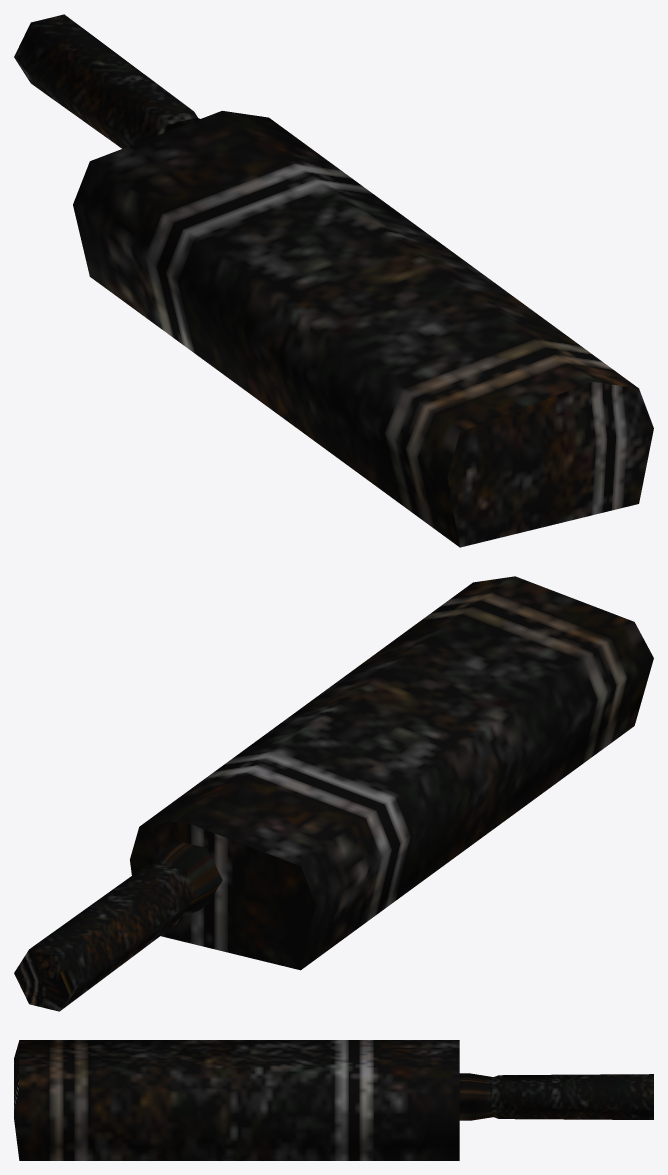
Rendered from Pickup_WeaponZj02.glb.
3 renders of one model, top to bottom at view 1: azimuth 30°, elevation 25°; view 2: azimuth 150°, elevation 25°; view 3: azimuth 270°, elevation 25°, orthographic. The views are drawn at different scales.
Visible parts, largest first — view 1: pk_weapon_zj02; view 2: pk_weapon_zj02; view 3: pk_weapon_zj02.
Part boxes in pixels (x1=…): pk_weapon_zj02: x1=14, y1=14, x2=653, y2=547; pk_weapon_zj02: x1=14, y1=576, x2=653, y2=1011; pk_weapon_zj02: x1=14, y1=1040, x2=653, y2=1160.
Size of the model in its own units: 0.1174 by 0.0726 by 0.5294.
Materials: 1 (1 with a texture image).
